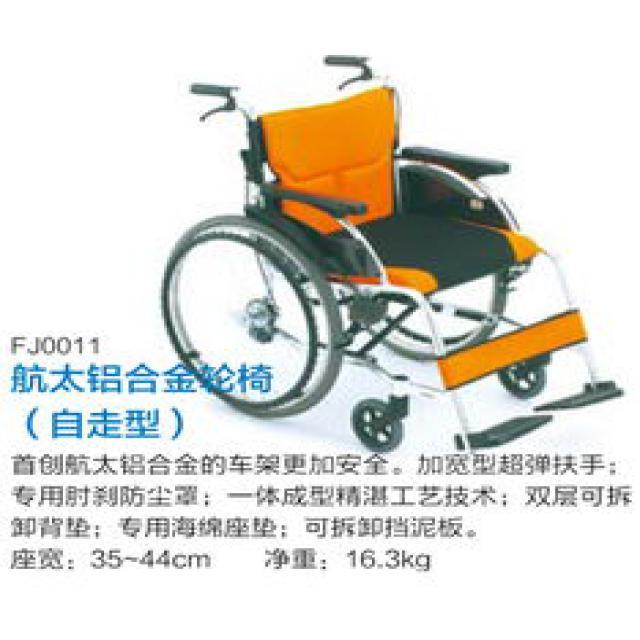wheelchair: (140, 43, 638, 452)
